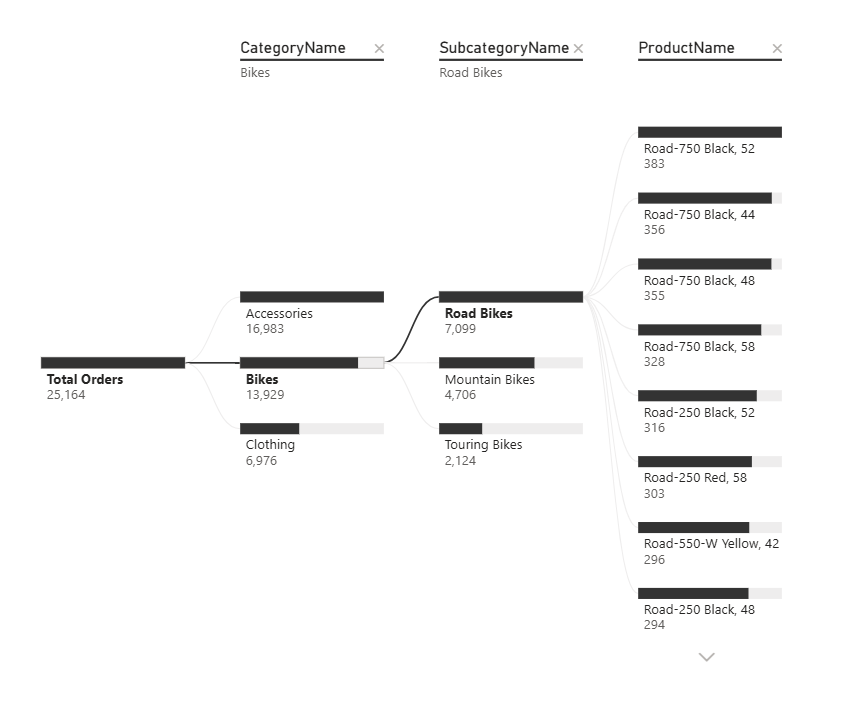

What the dashboard file says about the page in this screenshot:
{"tool":"powerbi","page":{"name":"Decomposition Tree","canvas":[1280,720],"ordinal":6},"visuals":[{"type":"decompositionTreeVisual","fields":{"Analyze":["Measure Table.Total Orders"],"ExplainBy":["Product Categories Lookup.CategoryName","Product Subcategories Lookup.SubcategoryName","Product Lookup.ProductName"]},"box":[64.4,55.4,773.1,597.9],"z":0},{"type":"card","fields":{"Values":["Measure Table.Total Orders"]},"box":[894.1,204.6,280.3,243],"z":1000}]}

Visuals, with their boxes on the page's 1280x720 design canvas (x1, y1, x2, y2). These are canvas units, not pixel positions in the 851x710 screenshot, which may show the page scaled, cropped or inside an application window:
decompositionTreeVisual - Measure Table.Total Orders x Product Categories Lookup.CategoryName: bbox=(64, 55, 838, 653)
card - Measure Table.Total Orders: bbox=(894, 205, 1174, 448)
